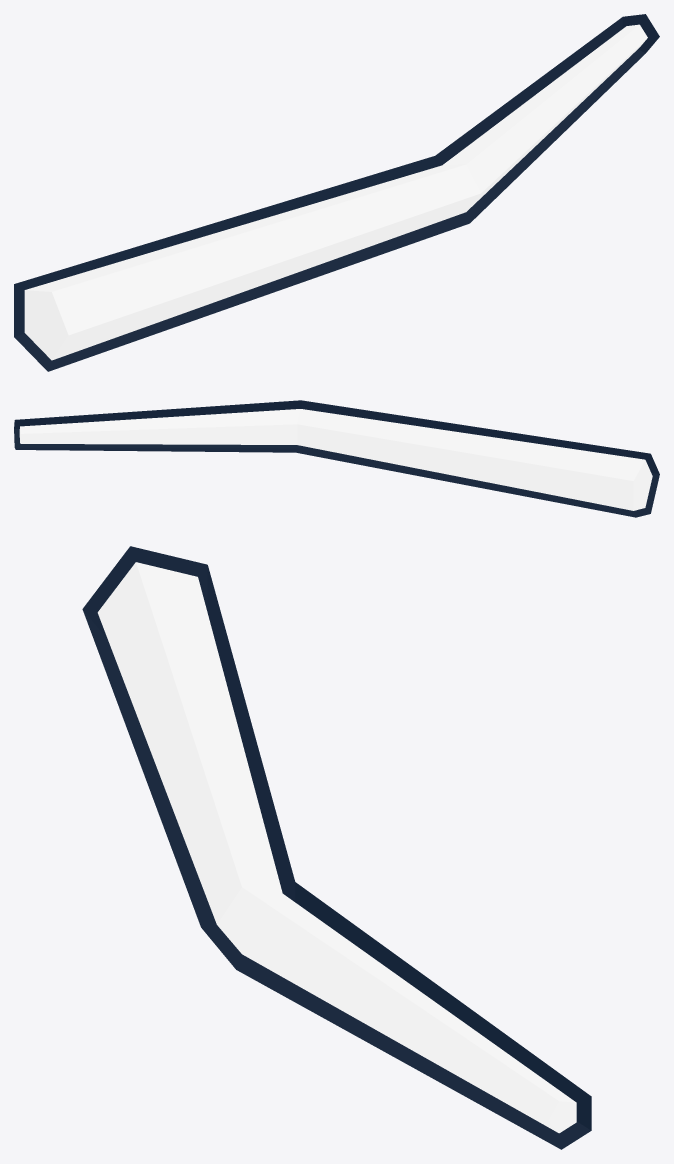
File: branch.glb
3 renders of one model, top to bottom at view 1: azimuth 30°, elevation 25°; view 2: azimuth 150°, elevation 25°; view 3: azimuth 270°, elevation 25°, orthographic. The views are drawn at different scales.
Visible parts, largest first — view 1: Body, Outline; view 2: Body, Outline; view 3: Body, Outline.
Part boxes in pixels (left/top/right/bottom): Body: left=24, top=24, right=647, bottom=360; Outline: left=14, top=14, right=659, bottom=371; Body: left=19, top=409, right=652, bottom=510; Outline: left=14, top=400, right=659, bottom=517; Body: left=97, top=562, right=576, bottom=1133; Outline: left=82, top=546, right=591, bottom=1149.
Bounding box in the file's own units: 8.74 × 0.9352 × 3.58.
